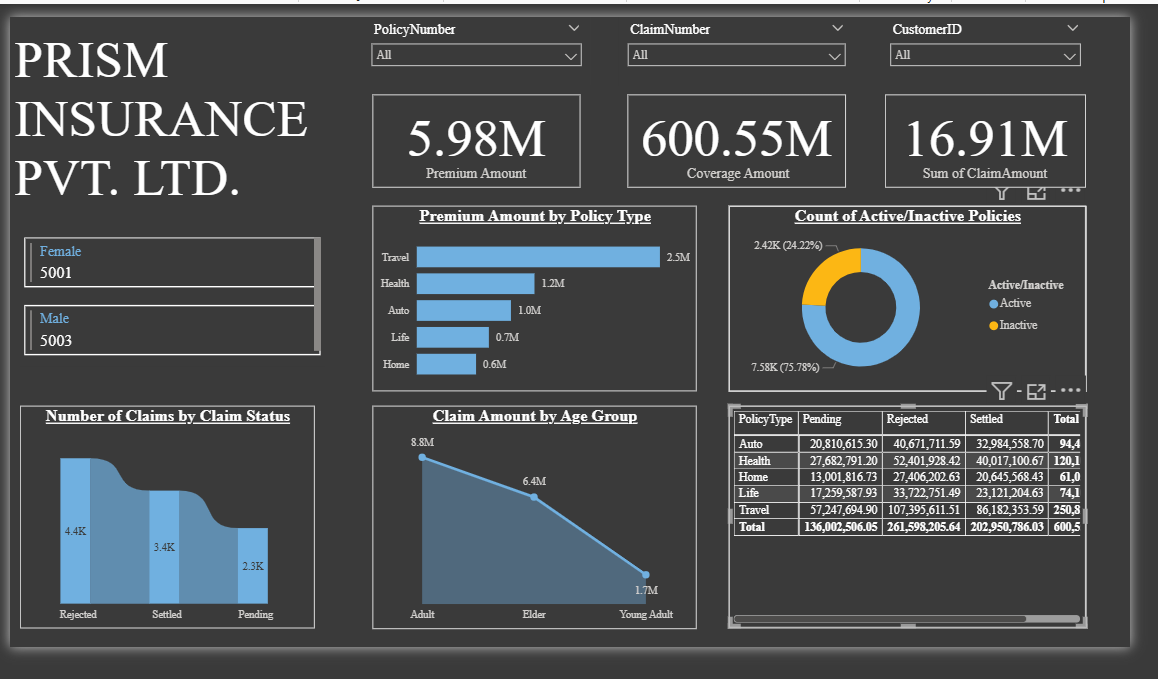

This screenshot's page, from the dashboard's own definition file:
{"tool":"powerbi","page":{"name":"Page 1","canvas":[1280,720],"ordinal":0},"visuals":[{"type":"donutChart","title":"Count of Active/Inactive Policies","fields":{"Category":["InsuranceData (1).Active/Inactive"],"Y":["CountNonNull(InsuranceData (1).Active/Inactive)"]},"box":[821.6,216,407.8,212.3],"z":0},{"type":"ribbonChart","title":"Number of Claims by Claim Status","fields":{"Category":["InsuranceData (1).ClaimStatus"],"Y":["CountNonNull(InsuranceData (1).ClaimStatus)"]},"box":[12.1,444,336.6,254.6],"z":1000},{"type":"slicer","fields":{"Values":["InsuranceData (1).PolicyNumber"]},"box":[403,0,260.6,78.4],"z":2000},{"type":"slicer","fields":{"Values":["InsuranceData (1).CustomerID"]},"box":[995.3,0,237.7,78.4],"z":3000},{"type":"slicer","fields":{"Values":["InsuranceData (1).ClaimNumber"]},"box":[696.1,0,269,78.4],"z":4000},{"type":"textbox","box":[0,10.9,348.7,273.9],"z":5000},{"type":"card","fields":{"Values":["Sum(InsuranceData (1).PremiumAmount)"]},"box":[413.8,89.3,237.7,106.2],"z":6000},{"type":"card","fields":{"Values":["Sum(InsuranceData (1).CoverageAmount)"]},"box":[705.8,89.3,249.7,106.2],"z":7000},{"type":"card","fields":{"Values":["Sum(InsuranceData (1).ClaimAmount)"]},"box":[1000.1,89.3,229.2,106.2],"z":8000},{"type":"multiRowCard","fields":{"Values":["InsuranceData (1).Gender","CountNonNull(InsuranceData (1).Gender)"]},"box":[12.1,247.3,348.7,152],"z":9000},{"type":"barChart","title":"Premium Amount by Policy Type","fields":{"Y":["Sum(InsuranceData (1).PremiumAmount)"],"Category":["InsuranceData (1).PolicyType"]},"box":[413.8,216,370.4,212.3],"z":10000},{"type":"lineChart","title":"Claim Amount by Age Group","fields":{"Category":["InsuranceData (1).Age Group"],"Y":["Sum(InsuranceData (1).ClaimAmount)"]},"box":[414,444,370,255],"z":11000},{"type":"pivotTable","fields":{"Values":["Sum(InsuranceData (1).CoverageAmount)"],"Rows":["InsuranceData (1).PolicyType"],"Columns":["InsuranceData (1).ClaimStatus"]},"box":[821.6,444,407.8,254.6],"z":12000}]}

Visuals, with their boxes on the page's 1280x720 design canvas (x1, y1, x2, y2). These are canvas units, not pixel positions in the 1158x679 screenshot, which may show the page scaled, cropped or inside an application window:
"Count of Active/Inactive Policies" donutChart: box=[822, 216, 1229, 428]
"Number of Claims by Claim Status" ribbonChart: box=[12, 444, 349, 699]
slicer - InsuranceData (1).PolicyNumber: box=[403, 0, 664, 78]
slicer - InsuranceData (1).CustomerID: box=[995, 0, 1233, 78]
slicer - InsuranceData (1).ClaimNumber: box=[696, 0, 965, 78]
textbox: box=[0, 11, 349, 285]
card - Sum(InsuranceData (1).PremiumAmount): box=[414, 89, 652, 196]
card - Sum(InsuranceData (1).CoverageAmount): box=[706, 89, 956, 196]
card - Sum(InsuranceData (1).ClaimAmount): box=[1000, 89, 1229, 196]
multiRowCard - InsuranceData (1).Gender x CountNonNull(InsuranceData (1).Gender): box=[12, 247, 361, 399]
"Premium Amount by Policy Type" barChart: box=[414, 216, 784, 428]
"Claim Amount by Age Group" lineChart: box=[414, 444, 784, 699]
pivotTable - Sum(InsuranceData (1).CoverageAmount) x InsuranceData (1).PolicyType: box=[822, 444, 1229, 699]
